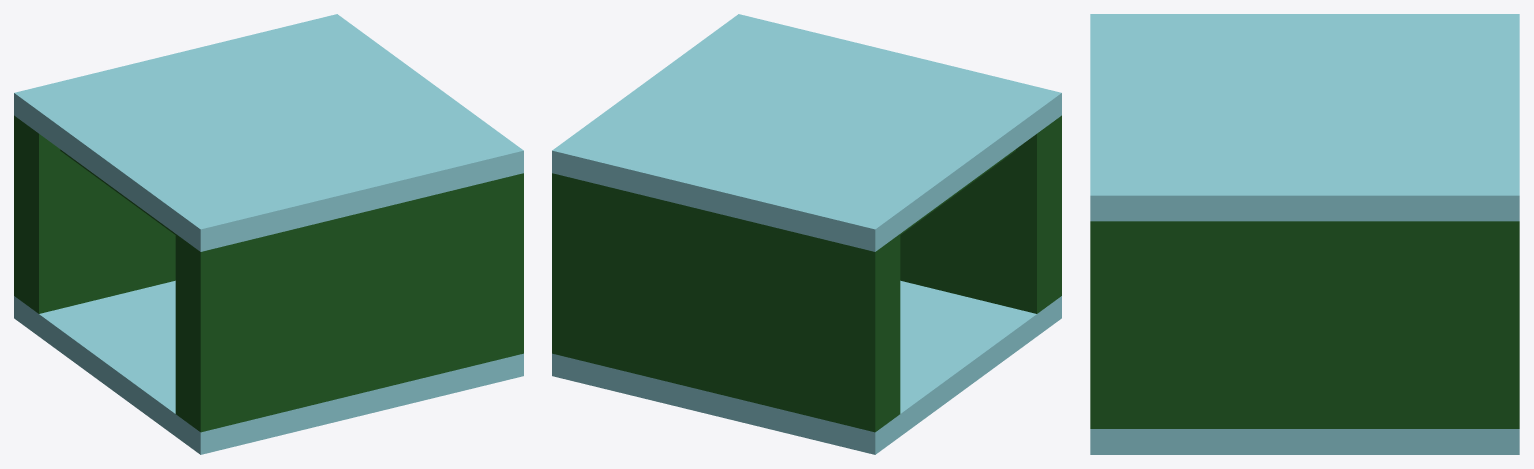
Rendered from Garage.fbx.
The picture shows the model from 3 angles, left to right: view 1: azimuth 30°, elevation 25°; view 2: azimuth 150°, elevation 25°; view 3: azimuth 270°, elevation 25°; orthographic projection. The views are drawn at different scales.
Visible parts, largest first — view 1: Garage; view 2: Garage; view 3: Garage.
Boxes of the visible parts, left/top/right/bottom form: Garage: left=14, top=14, right=523, bottom=454; Garage: left=552, top=14, right=1061, bottom=454; Garage: left=1090, top=14, right=1519, bottom=454.
Size of the model in its own units: 1500 by 1000 by 1500.
